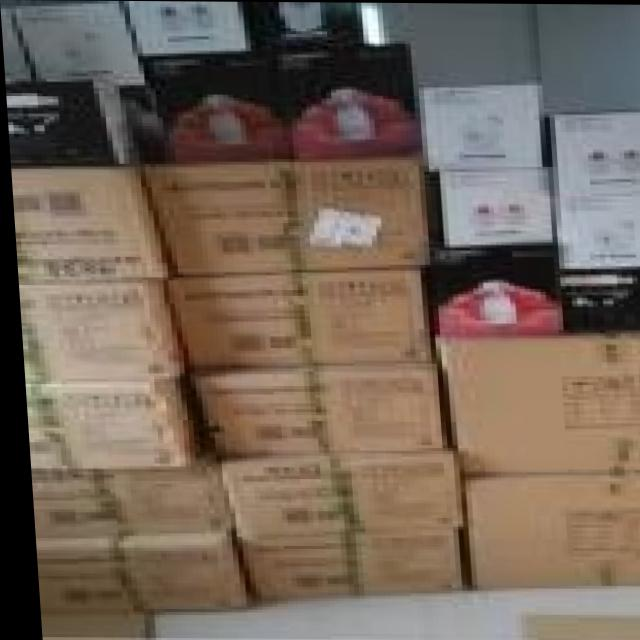box: (143, 157, 427, 277), (430, 330, 640, 474), (169, 267, 426, 368), (185, 360, 441, 455), (210, 448, 459, 536), (456, 475, 640, 587), (9, 164, 169, 282), (28, 533, 248, 617), (25, 452, 229, 541), (276, 43, 421, 162), (235, 526, 459, 603), (15, 280, 184, 381), (20, 376, 199, 471), (142, 51, 292, 164), (422, 242, 559, 337), (4, 76, 137, 166), (417, 85, 541, 171), (21, 4, 144, 85), (540, 94, 640, 192), (437, 166, 552, 247), (552, 190, 640, 271), (129, 1, 250, 56), (243, 1, 363, 51), (556, 266, 640, 332), (118, 85, 169, 167), (0, 6, 35, 82)
